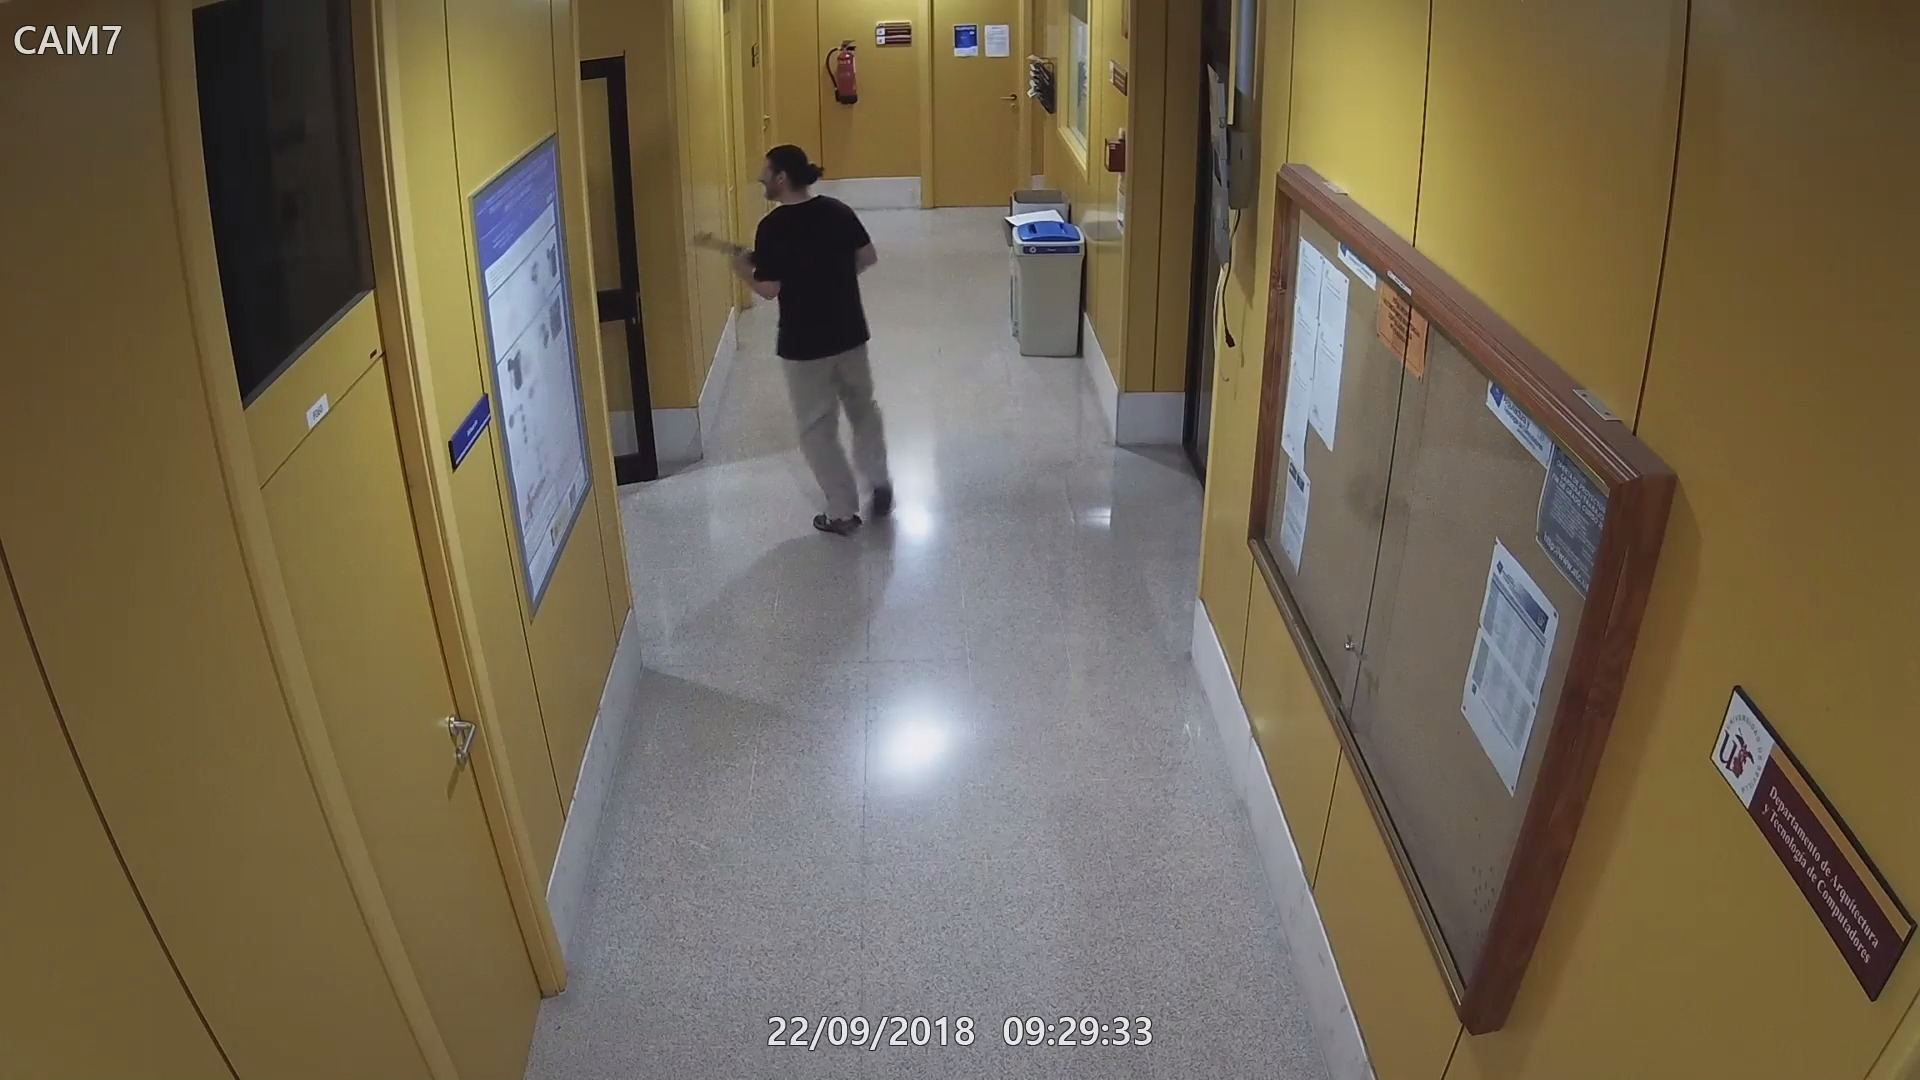Short_rifle: (692, 229, 762, 274)
